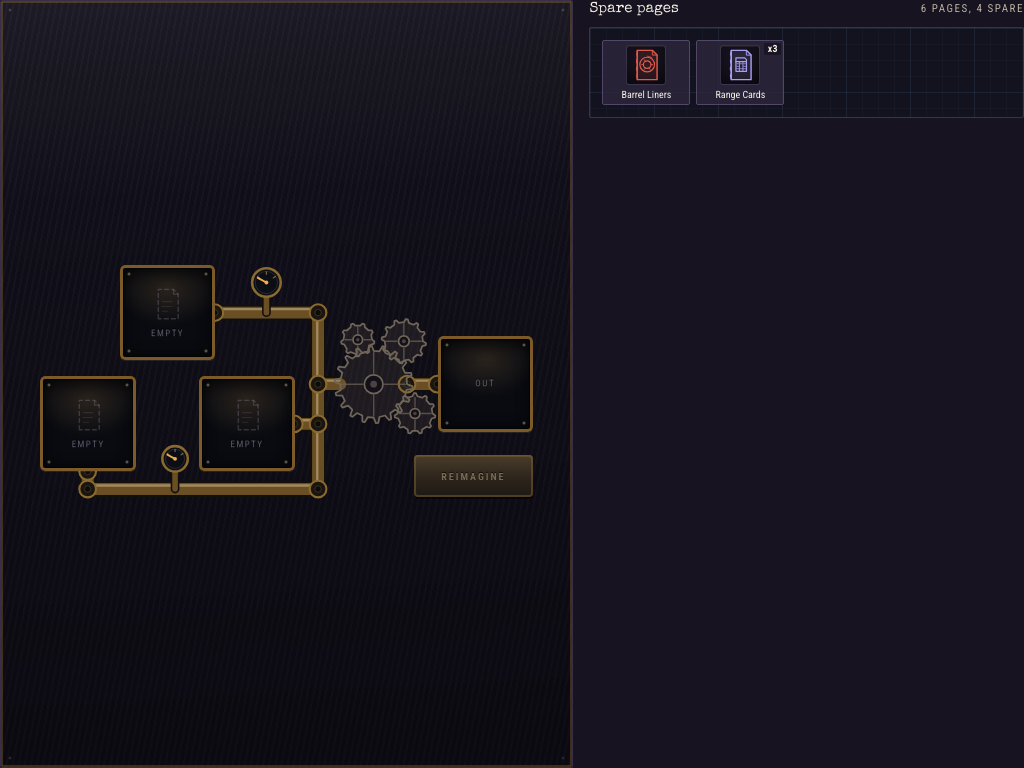
Test case: pressing it (§G2, §G3) › lands the new page in the outfeed and empties the sockets
This screenshot has width=1024, height=768.
Check: the element with test id "reimagine-machine" is shown, box x1=0 y1=0 x2=573 y2=767
Click the button "Range Cards x3": [740, 73] box x1=696 y1=40 x2=784 y2=105
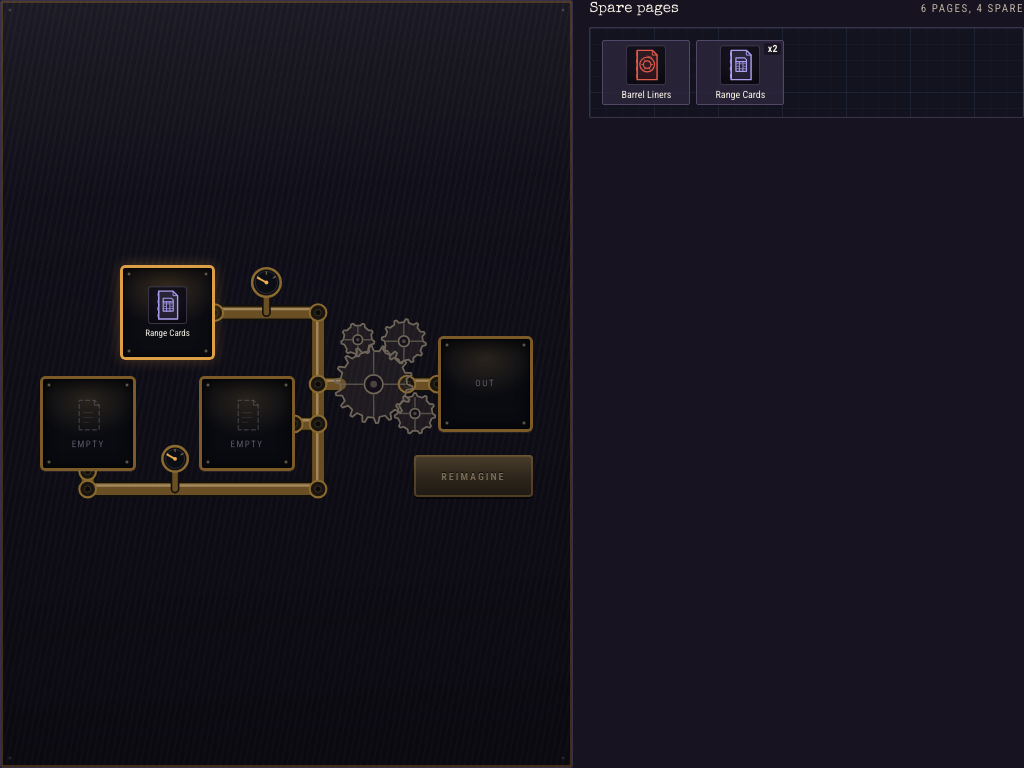
Click the button "Range Cards x2": [740, 73] box x1=696 y1=40 x2=784 y2=105
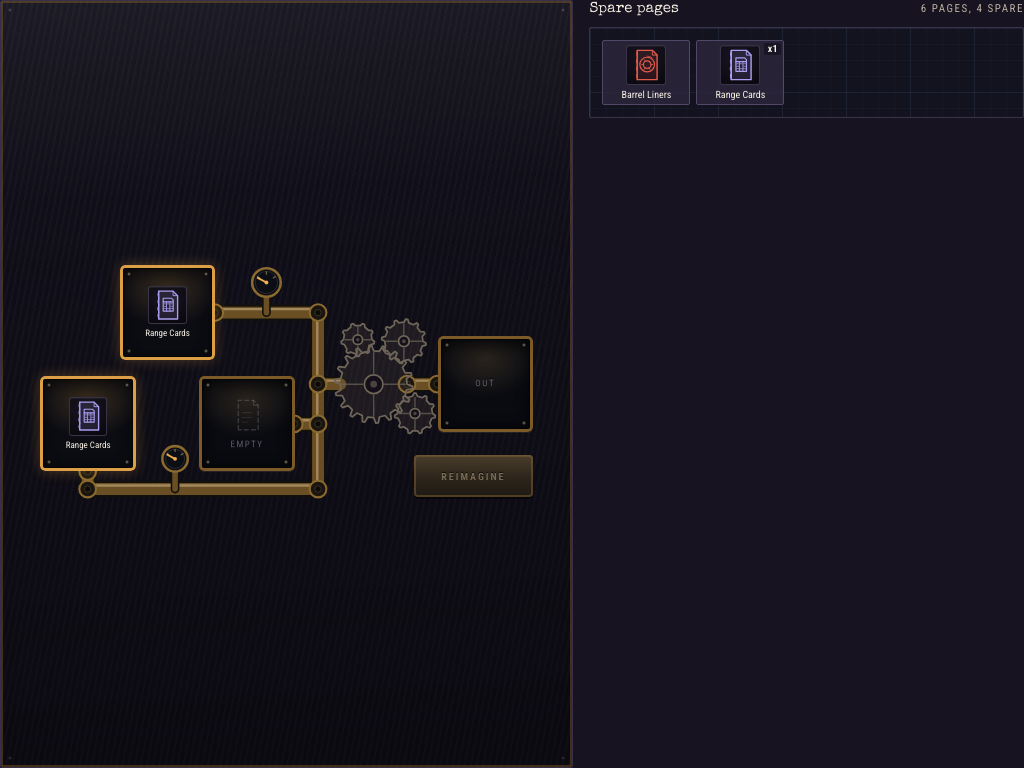
Click the button "Barrel Liners": [646, 73] box x1=602 y1=40 x2=690 y2=105
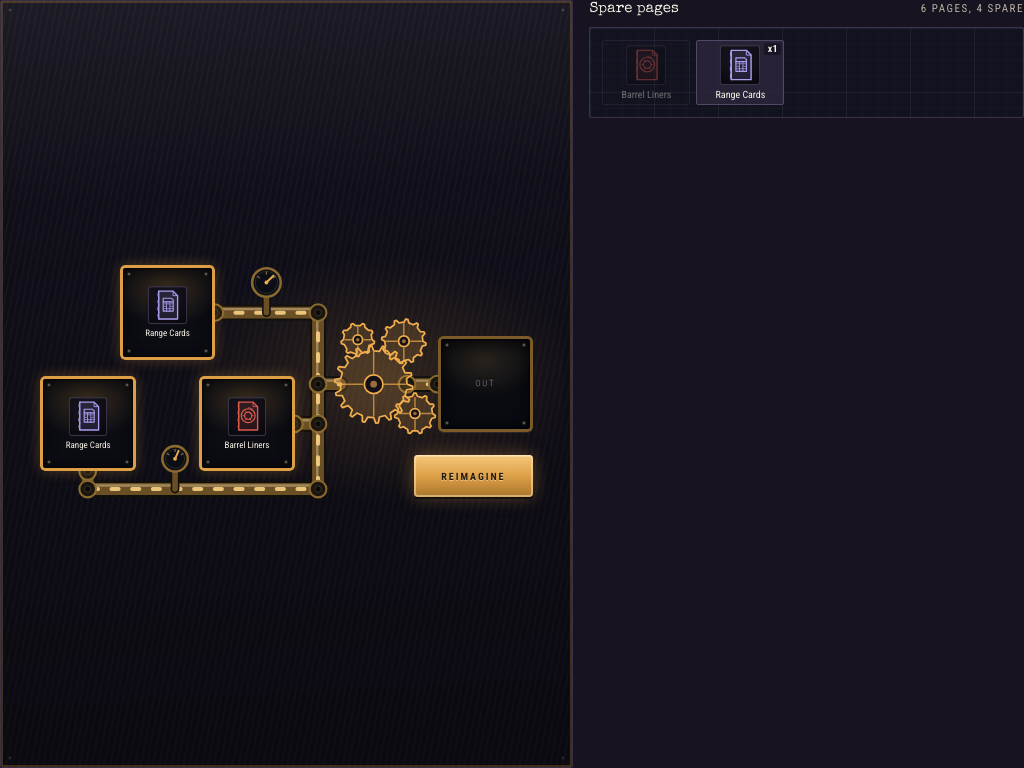
Click the button with test id "reimagine": [473, 476] box x1=414 y1=456 x2=533 y2=497
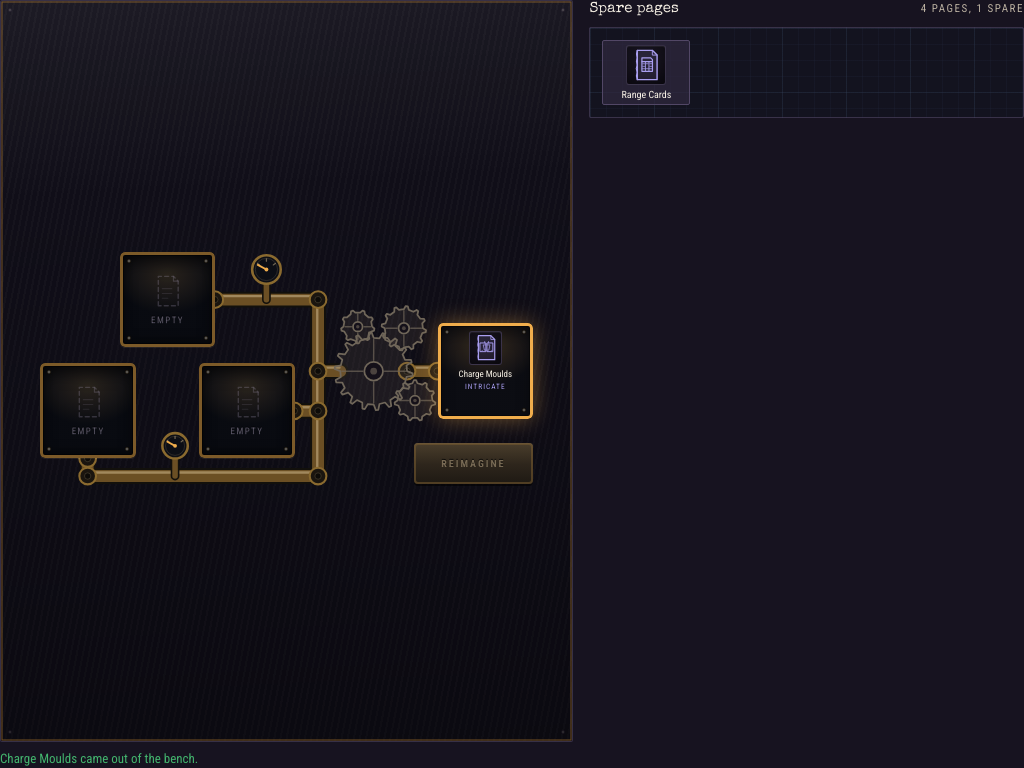
Check: the element with test id "reimagine-result" shows "Charge Moulds", box x1=459 y1=369 x2=512 y2=379
Check: the message with test id "reimagine-report" shows "Charge Moulds", box x1=0 y1=751 x2=198 y2=766
